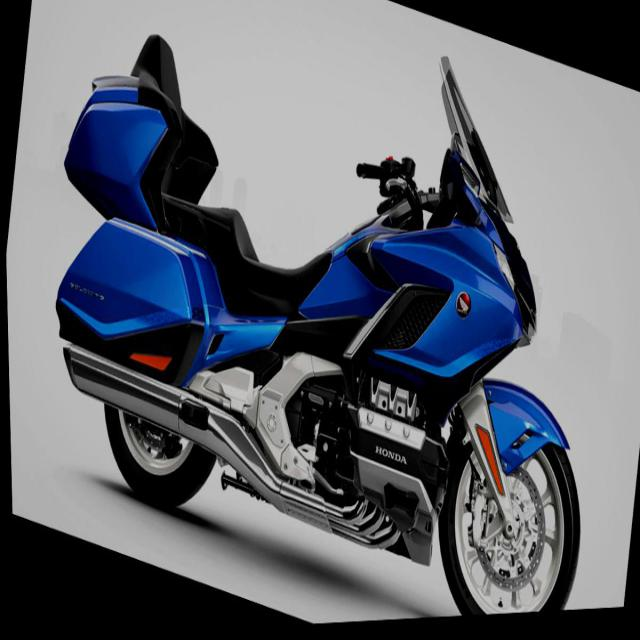Gold Wing: (18, 0, 633, 638)
